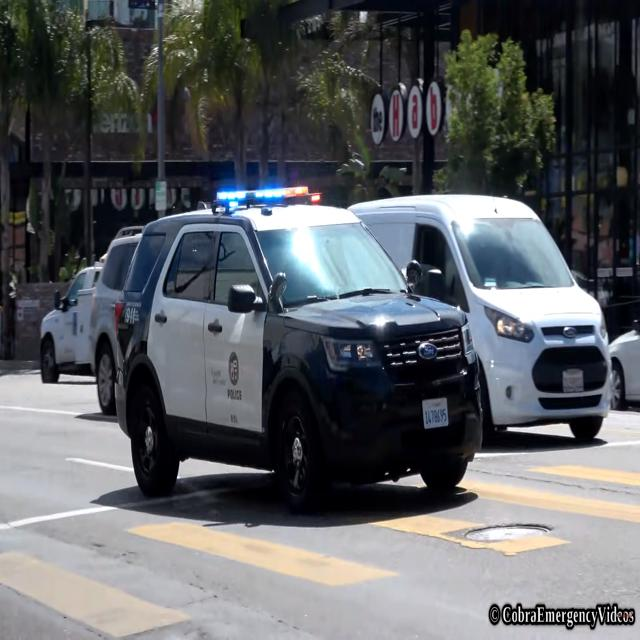emergency-vehicles: (100, 179, 506, 527)
